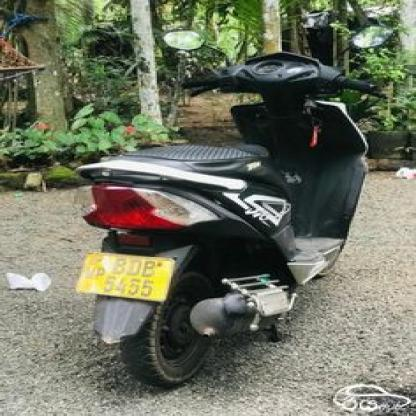bike back: (74, 12, 382, 389)
number plate: (81, 250, 163, 299)
